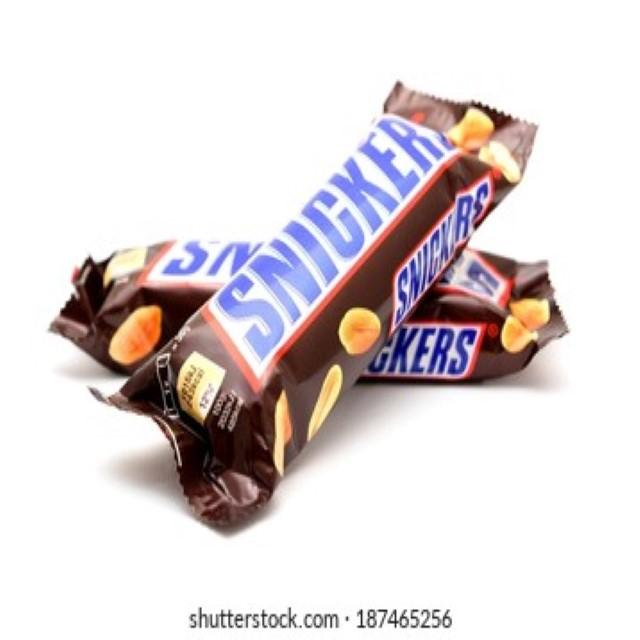snickers_chocolate: (112, 85, 530, 482), (78, 250, 565, 388)
